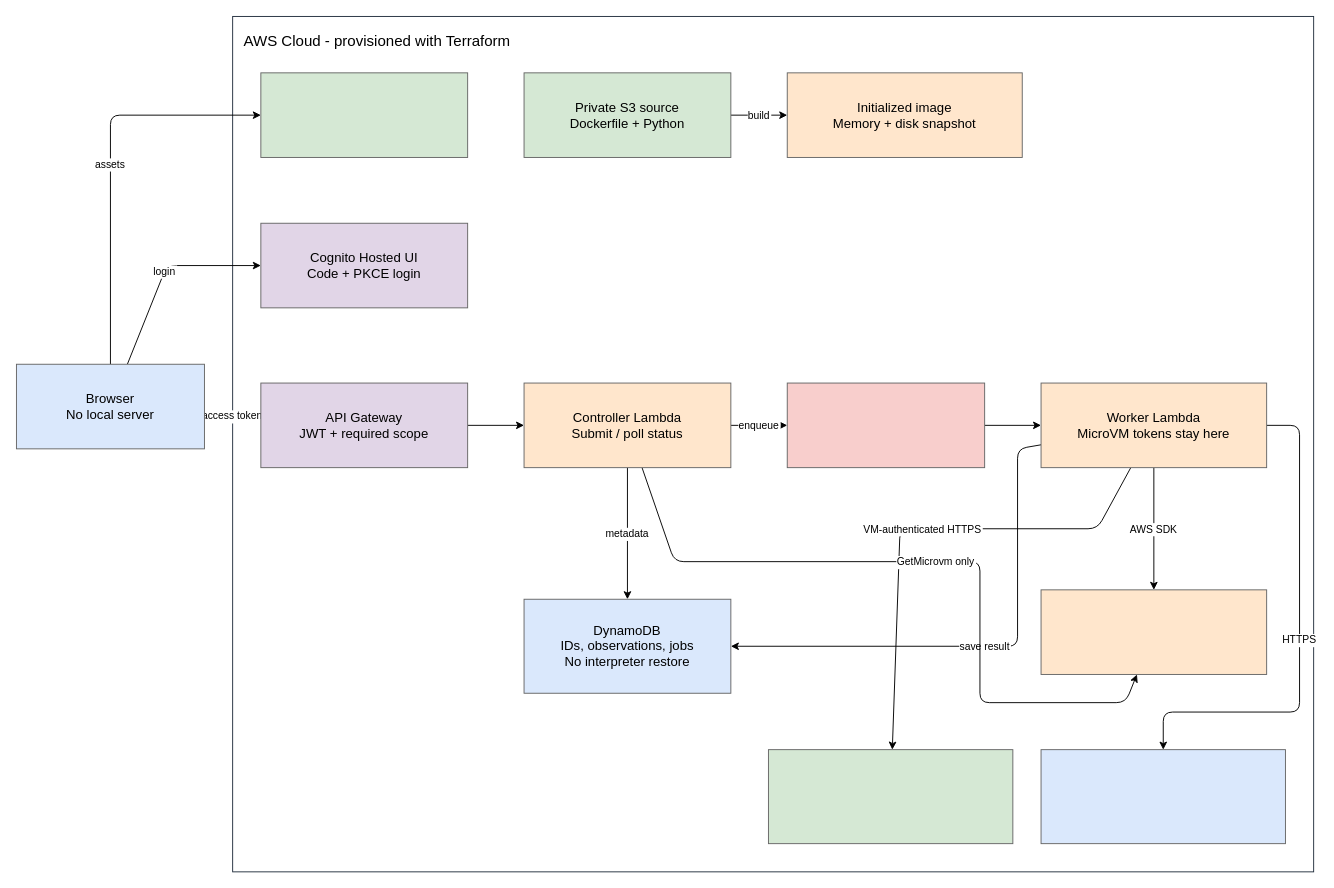
Some shapes in this 1334 by 888 pixel diagram are drawn without their labels. Each missing label, with the centre of its shape:
Alice MicroVM Interpreter + RAM + files HTTPS :8080 / hooks :8081: point 890,796
Bob MicroVM Interpreter + RAM + files HTTPS :8080 / hooks :8081: point 1162,796
Lambda MicroVM API Lifecycle + tokens: point 1153,631
S3 HTTPS frontend HTML + JS + config: point 364,114
SQS FIFO Serialized operations: point 885,425
